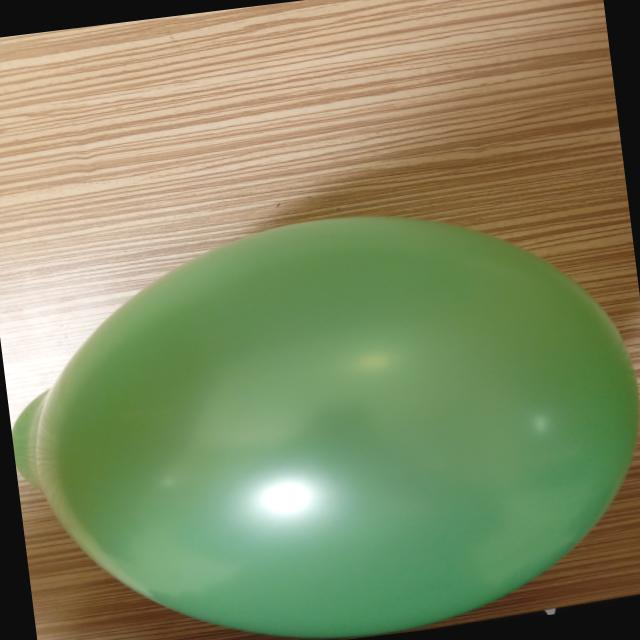balloon: (11, 216, 638, 638)
